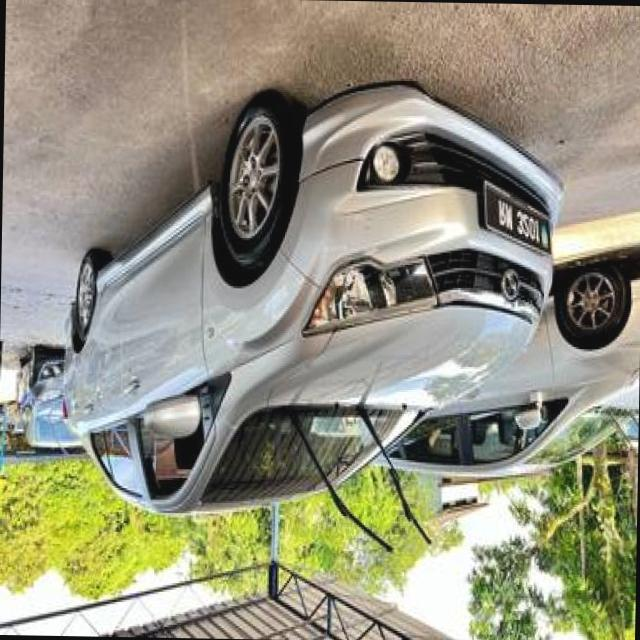PeroduaBezza: (57, 78, 566, 534)
